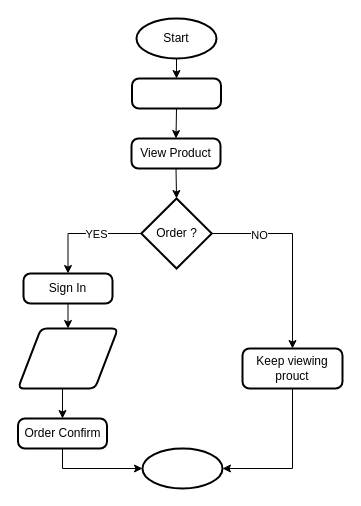
Image size: 361x506. Some labels were removed from this diagram. Each missing label, with the centre of its shape:
"End" goes at [182,468].
"Homepage" goes at [176,93].
"Take user details" goes at [67,358].
